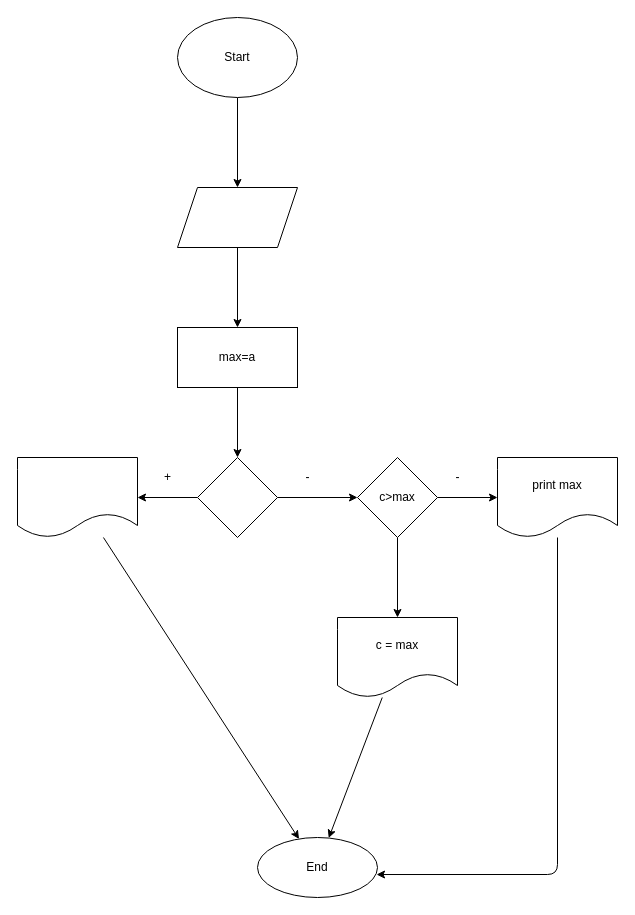
Some shapes in this 635 by 915 pixel diagram are drawn without their labels. Here are the shapes that lost their labels. From the top down, the centre of each, then its label:
At point (237, 217): "a, b, c".
At point (77, 497): "b = max".
At point (237, 497): "b>max".
